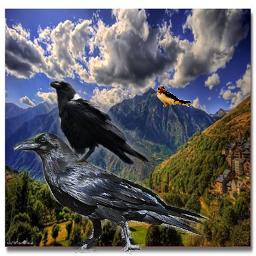Crow: (13, 132, 216, 256), (49, 76, 151, 169)
Swallow: (156, 85, 195, 109)
